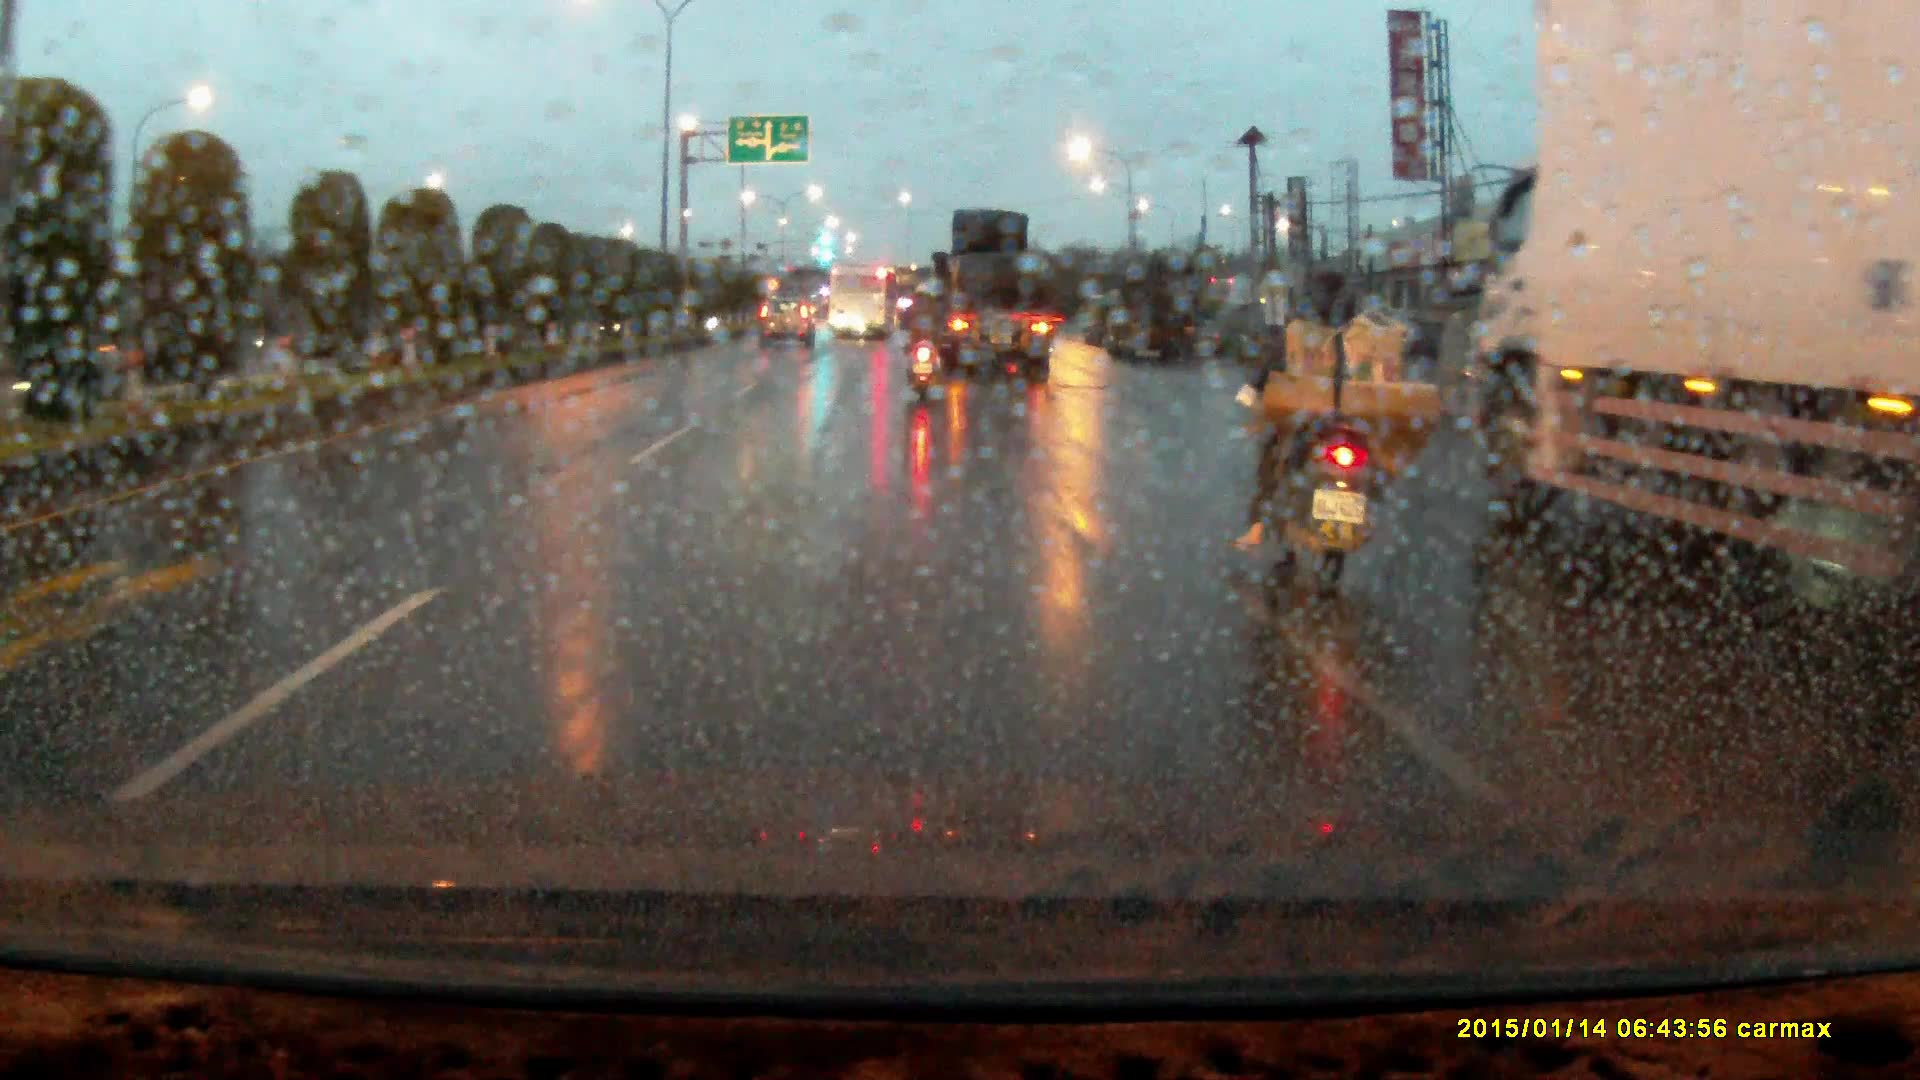rider: (1231, 253, 1446, 601), (906, 278, 952, 394)
vehicle: (1459, 1, 1920, 595), (911, 208, 1055, 385), (1114, 259, 1201, 360), (830, 266, 899, 344), (760, 292, 817, 341), (1079, 294, 1124, 348)
